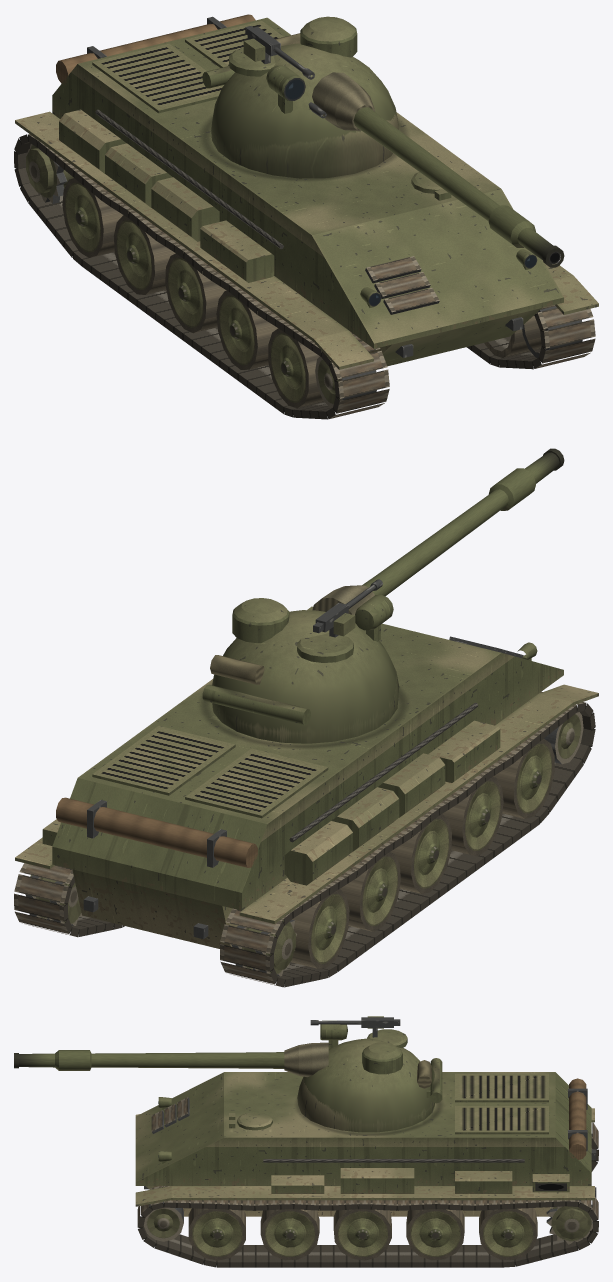
Rendered from vehicle-tank.glb.
3 renders of one model, top to bottom at view 1: azimuth 30°, elevation 25°; view 2: azimuth 150°, elevation 25°; view 3: azimuth 270°, elevation 25°, orthographic. The views are drawn at different scales.
Parts seen in each view (by area): view 1: vehicle-tank, turret; view 2: vehicle-tank, turret; view 3: vehicle-tank, turret.
Boxes of the visible parts, x1,y1,x2,y2 form: vehicle-tank: [14, 14, 598, 419]; turret: [202, 16, 564, 267]; vehicle-tank: [14, 606, 598, 987]; turret: [202, 448, 564, 743]; vehicle-tank: [135, 1072, 598, 1267]; turret: [14, 1016, 442, 1132].
Size of the model in its own units: 2.6 by 2.6 by 7.16.
Materials: 1 (1 with a texture image).
